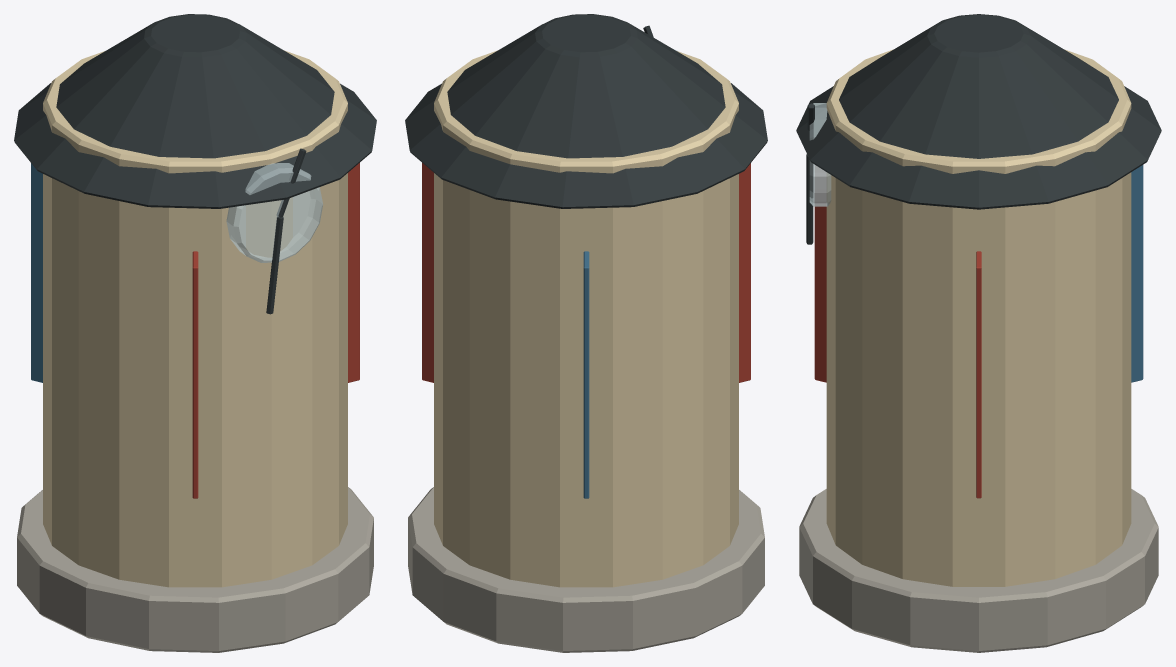
Rendered from runtime.glb.
3 views of the same model, side by side, from view 1: azimuth 30°, elevation 25°; view 2: azimuth 150°, elevation 25°; view 3: azimuth 270°, elevation 25° (orthographic).
Visible parts, largest first — view 1: eiffel-historic-information-v04_nocol; view 2: eiffel-historic-information-v04_nocol; view 3: eiffel-historic-information-v04_nocol.
Part boxes in pixels (x1,y1,x2,y2): eiffel-historic-information-v04_nocol: (14,14,376,652); eiffel-historic-information-v04_nocol: (405,14,767,652); eiffel-historic-information-v04_nocol: (796,14,1161,652).
Size of the model in its own units: 1.71 by 2.76 by 1.68.
